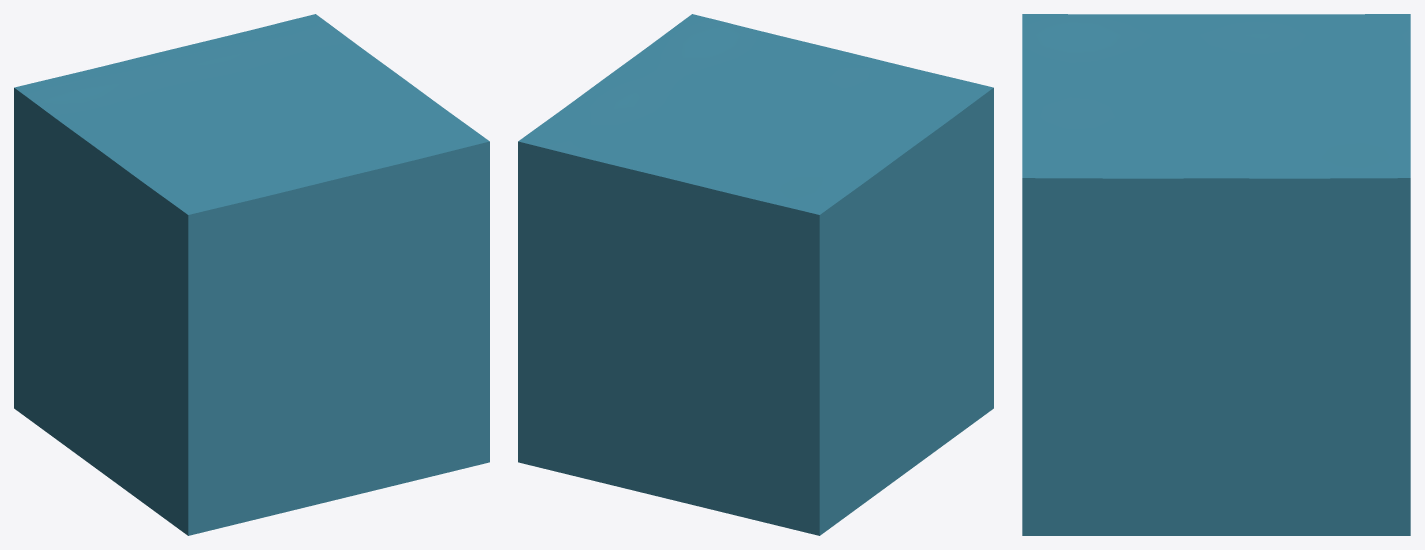
The model's file is slpool_wave47.glb.
3 renders of one model, left to right at view 1: azimuth 30°, elevation 25°; view 2: azimuth 150°, elevation 25°; view 3: azimuth 270°, elevation 25°, orthographic. The views are drawn at different scales.
Visible parts, largest first — view 1: poolWater; view 2: poolWater; view 3: poolWater.
Part boxes in pixels (bbox=[...]): poolWater: bbox=[14, 14, 489, 535]; poolWater: bbox=[518, 14, 993, 535]; poolWater: bbox=[1022, 14, 1410, 535].
Size of the model in its own units: 2 by 2.03 by 2.
